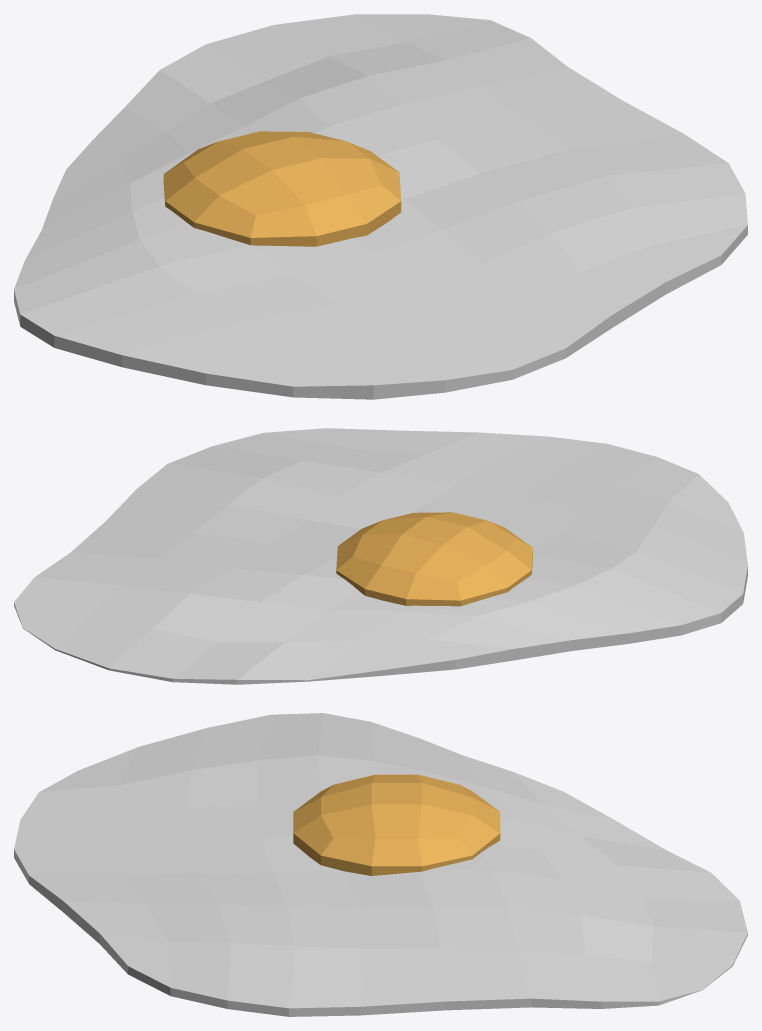
The model's file is EggAllVariants.fbx_Yolk_and_White.fbx.
3 views of the same model, one above another, from view 1: azimuth 30°, elevation 25°; view 2: azimuth 150°, elevation 25°; view 3: azimuth 270°, elevation 25° (orthographic). The views are drawn at different scales.
Visible parts, largest first — view 1: Egg White and Yolk; view 2: Egg White and Yolk; view 3: Egg White and Yolk.
Part boxes in pixels (<box>): Egg White and Yolk: <box>14,14,747,399</box>; Egg White and Yolk: <box>14,428,747,684</box>; Egg White and Yolk: <box>14,713,747,1016</box>.
Size of the model in its own units: 671 by 634 by 60.04.
